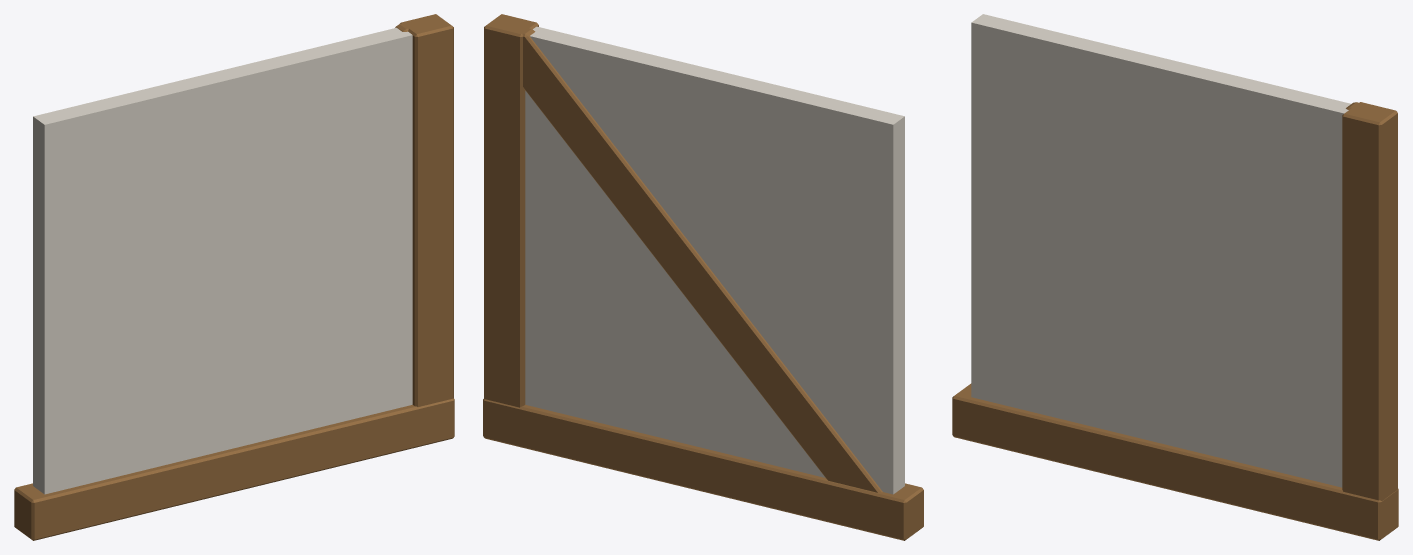
File: WallDiagL.fbx
3 renders of one model, left to right at view 1: azimuth 30°, elevation 25°; view 2: azimuth 150°, elevation 25°; view 3: azimuth 330°, elevation 25°, orthographic.
Visible parts, largest first — view 1: Cube.125, Cube.135, Cube.133; view 2: Cube.125, Cube.132, Cube.135, Cube.133; view 3: Cube.125, Cube.133, Cube.135.
Boxes of the visible parts, <box> form: Cube.125: <box>33,27,412,494</box>; Cube.135: <box>14,398,454,540</box>; Cube.133: <box>400,14,453,406</box>; Cube.125: <box>525,26,904,494</box>; Cube.132: <box>522,28,882,492</box>; Cube.135: <box>483,398,923,540</box>; Cube.133: <box>484,14,538,407</box>; Cube.125: <box>971,14,1350,487</box>; Cube.133: <box>1342,102,1397,500</box>; Cube.135: <box>952,383,1398,540</box>.
Size of the model in its own units: 216 by 202 by 17.27.
